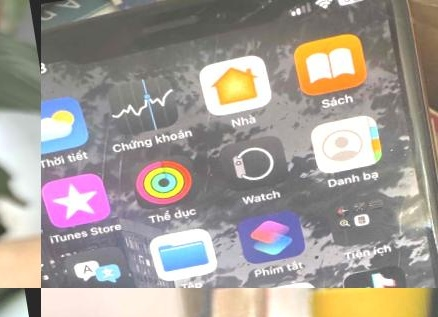physical_damage: (207, 0, 428, 82)
